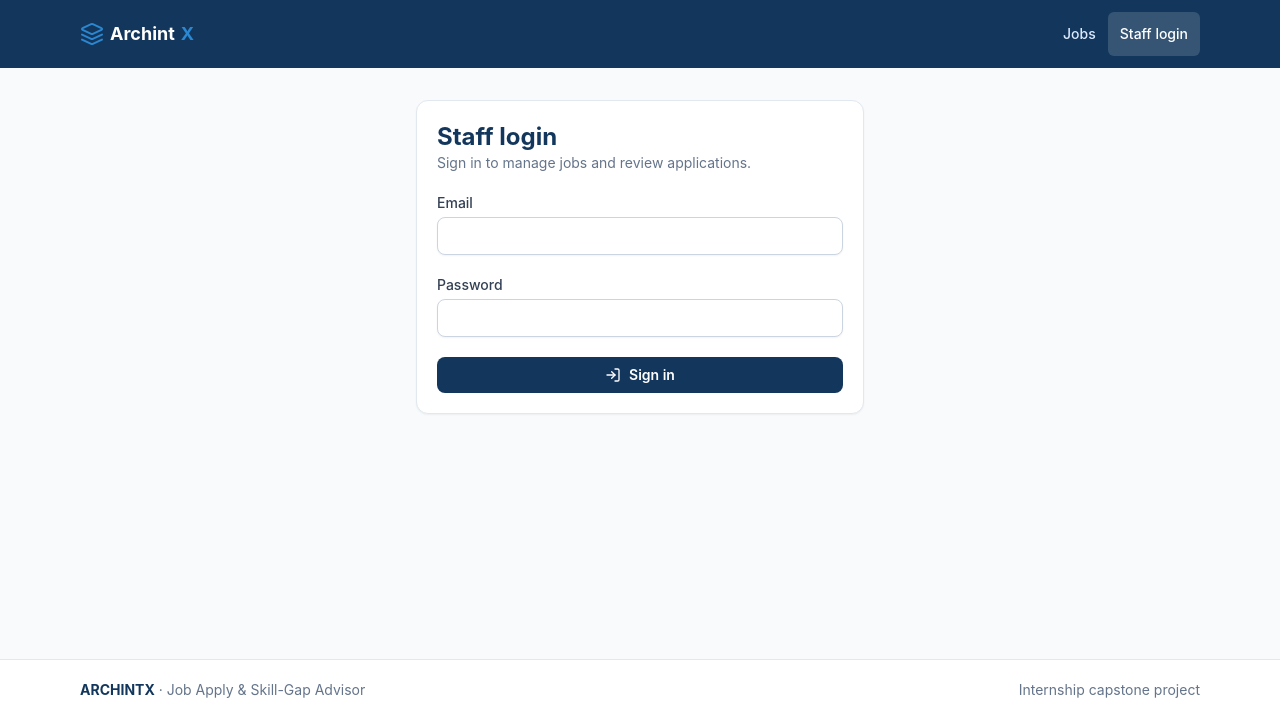
Test: staff login › signs in, stores the token for the session and opens the dashboard
Type "staff@example.com" into the field labelled "Email" at (640,236), box [437, 217, 843, 255]
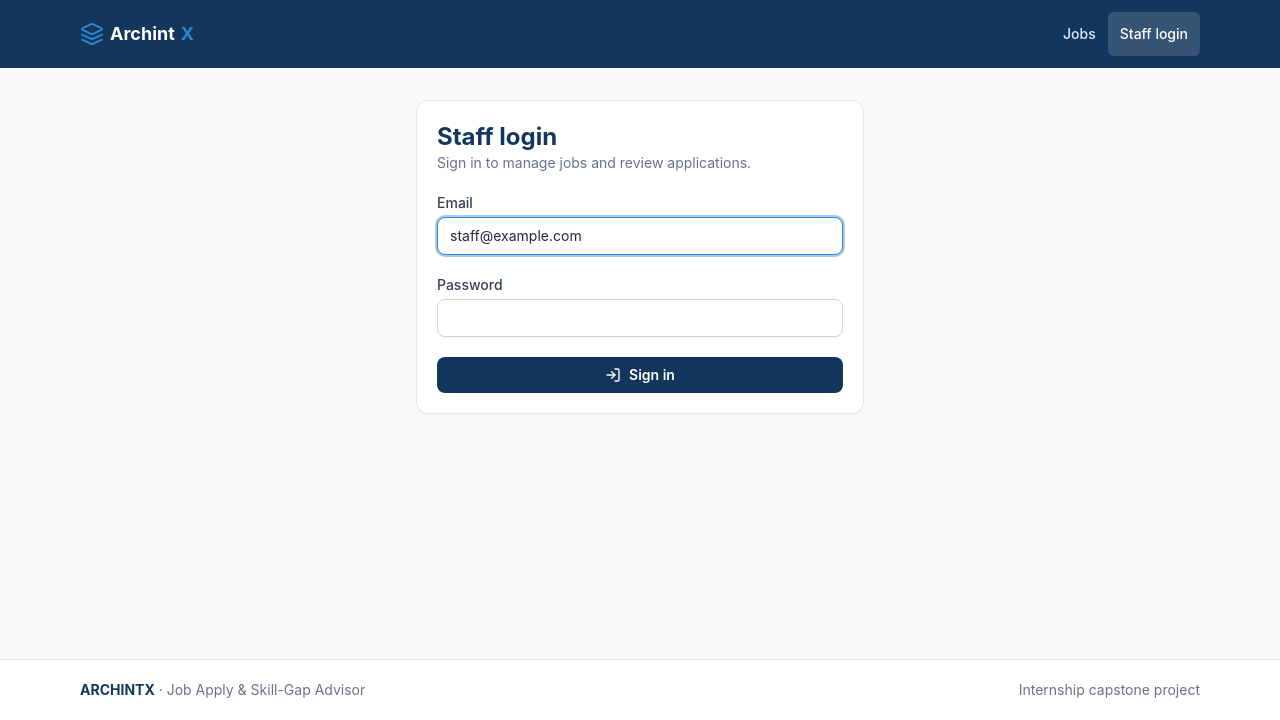
Type "secret" into the password field labelled "Password" at (640,318), box [437, 299, 843, 337]
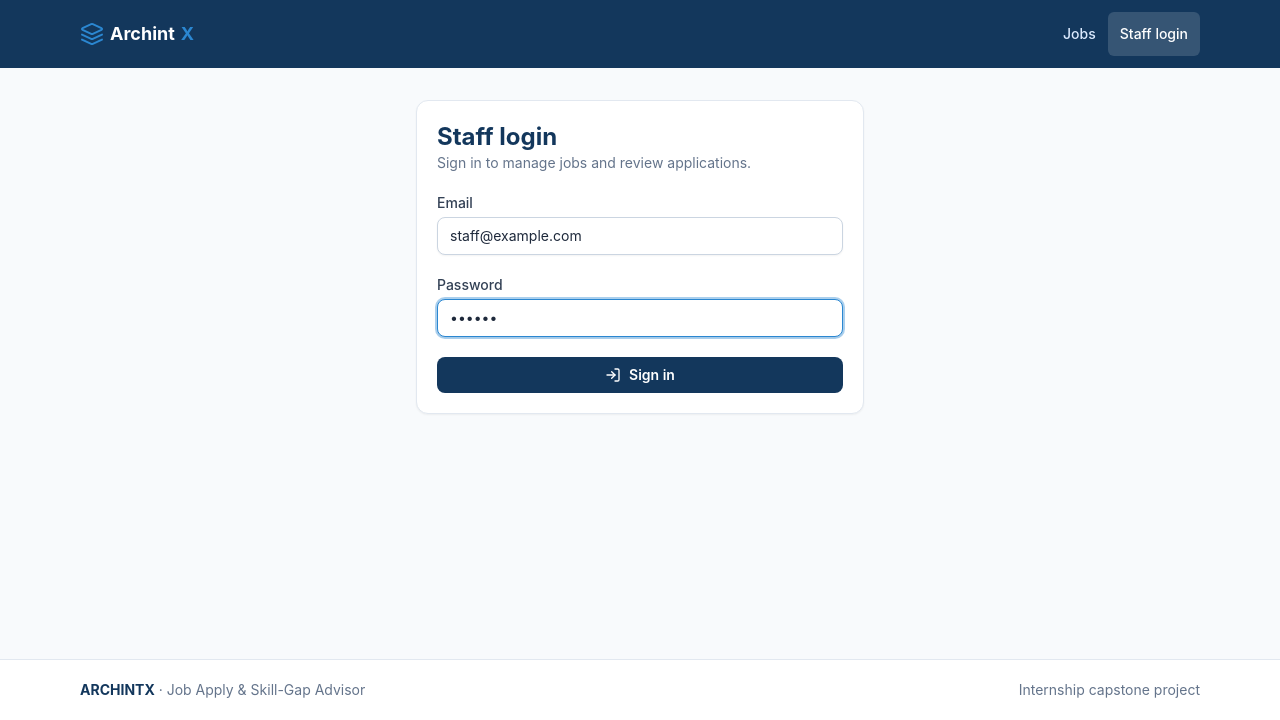
Click the button "Sign in" at (640,375), box [437, 357, 843, 393]
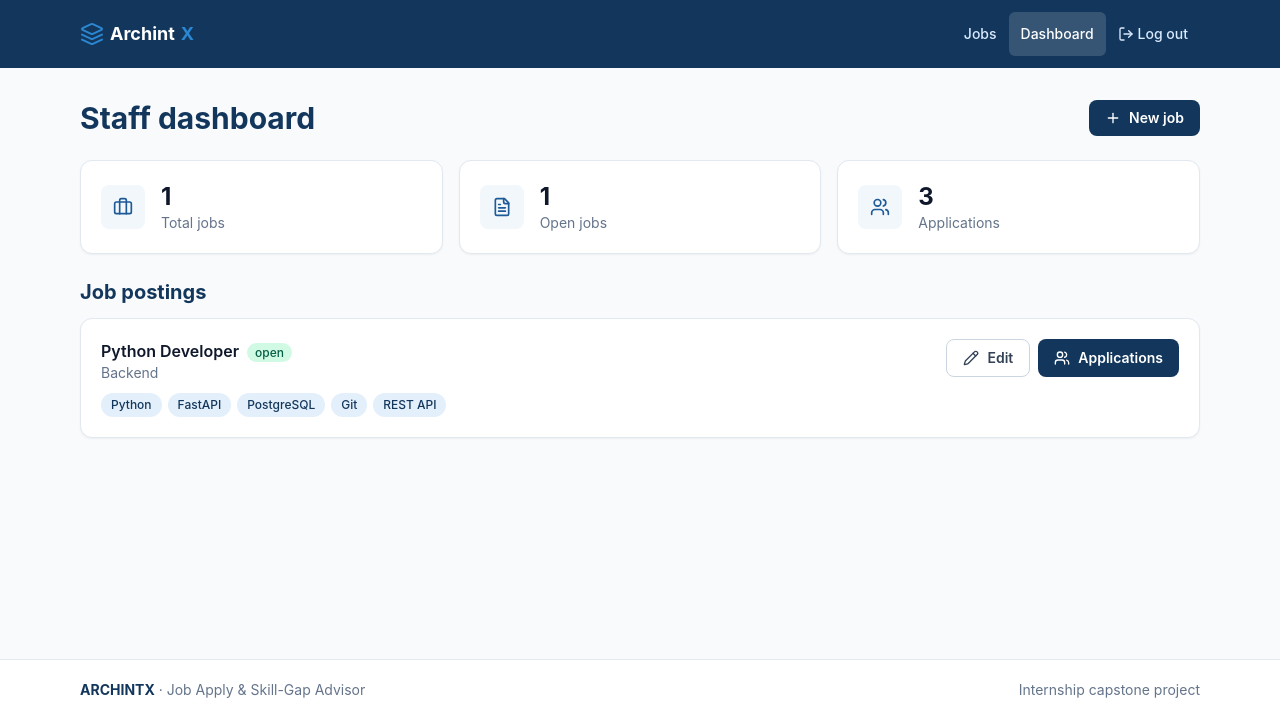
Expected: the heading "Staff dashboard" is shown, [80, 100, 315, 136]
